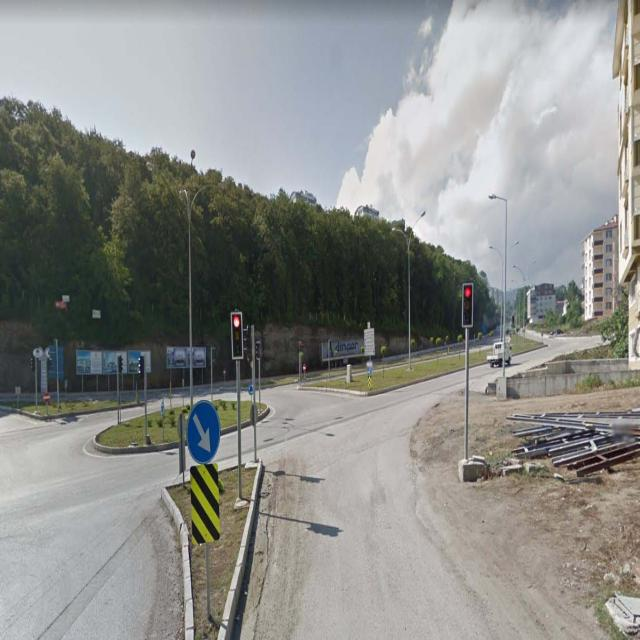kirmizi: (230, 312, 242, 359), (461, 283, 473, 327)
